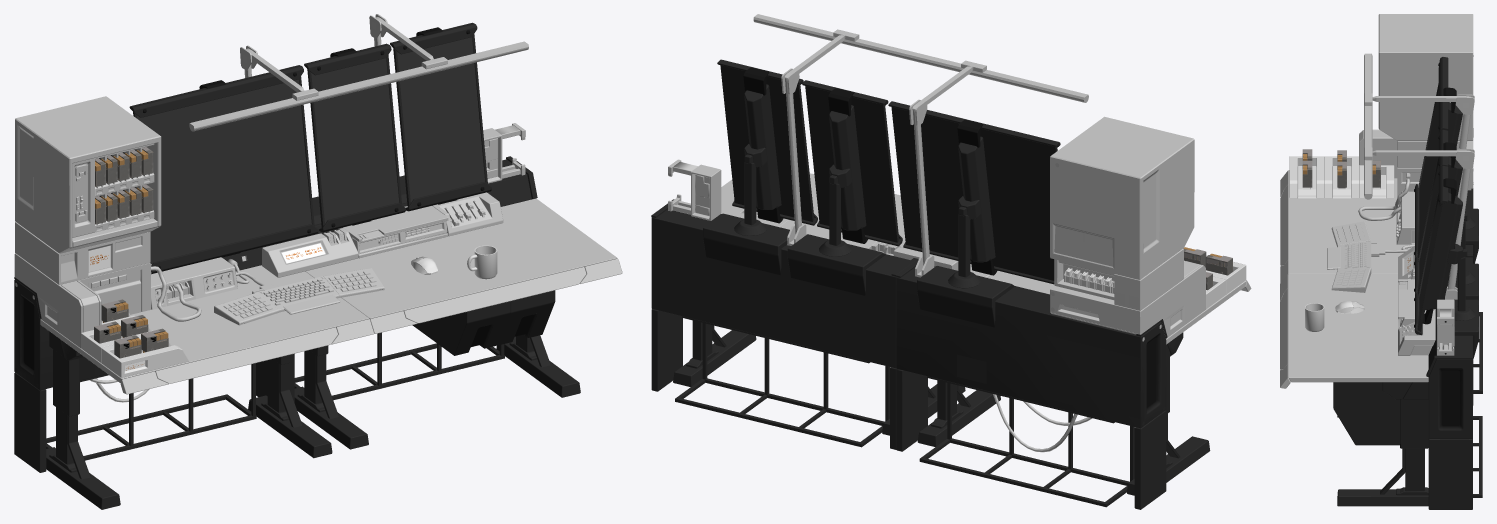
File: NarrativeComputer (1).fbx
3 views of the same model, side by side, from view 1: azimuth 30°, elevation 25°; view 2: azimuth 150°, elevation 25°; view 3: azimuth 270°, elevation 25° (orthographic). The views are drawn at different scales.
Visible parts, largest first — view 1: Plane.004, Plane.051, Plane.040, Plane.053, Plane.052, Plane.033, Plane.050, Plane.041, Cube.050, Cube.049, Cube.055, Cylinder.008 (+15 smaller); view 2: Plane.051, Plane.041, Plane.004, Plane.033, Plane.053, Plane.052, Cube.050, Cylinder.008, Cube.049, Cube.018, Plane.046, Cube.030 (+8 smaller); view 3: Plane.041, Plane.040, Plane.033, Plane.050, Plane.052, Plane.042, Plane.004, Plane.053, Cube.035, Cube.050, Cube.026, Cube.031 (+21 smaller).
Boxes of the visible parts, x1=… form: Plane.004: x1=129, y1=65, x2=318, y2=274; Plane.051: x1=14, y1=241, x2=332, y2=509; Plane.040: x1=305, y1=198, x2=622, y2=333; Plane.053: x1=304, y1=43, x2=405, y2=232; Plane.052: x1=390, y1=22, x2=491, y2=211; Plane.033: x1=15, y1=96, x2=161, y2=253; Plane.050: x1=40, y1=265, x2=373, y2=394; Plane.041: x1=286, y1=156, x2=580, y2=449; Cube.050: x1=14, y1=253, x2=150, y2=348; Cube.049: x1=15, y1=221, x2=150, y2=284; Cube.055: x1=95, y1=147, x2=153, y2=224; Cylinder.008: x1=189, y1=41, x2=528, y2=131; Plane.051: x1=896, y1=259, x2=1210, y2=509; Plane.041: x1=651, y1=199, x2=965, y2=449; Plane.004: x1=888, y1=101, x2=1060, y2=327; Plane.033: x1=1050, y1=116, x2=1194, y2=279; Plane.053: x1=787, y1=80, x2=902, y2=295; Plane.052: x1=703, y1=59, x2=817, y2=275; Cube.050: x1=1050, y1=260, x2=1205, y2=338; Cylinder.008: x1=753, y1=14, x2=1088, y2=102; Cube.049: x1=1054, y1=248, x2=1183, y2=310; Cube.018: x1=668, y1=159, x2=721, y2=220; Plane.046: x1=1054, y1=226, x2=1113, y2=266; Cube.030: x1=912, y1=104, x2=929, y2=265; Plane.041: x1=1337, y1=254, x2=1482, y2=509; Plane.040: x1=1280, y1=273, x2=1428, y2=388; Plane.033: x1=1378, y1=14, x2=1473, y2=140; Plane.050: x1=1280, y1=170, x2=1414, y2=282; Plane.052: x1=1414, y1=166, x2=1478, y2=358; Plane.042: x1=1333, y1=382, x2=1399, y2=445; Plane.004: x1=1414, y1=57, x2=1478, y2=263; Plane.053: x1=1414, y1=130, x2=1478, y2=299; Cube.035: x1=1327, y1=221, x2=1371, y2=292; Cube.050: x1=1359, y1=129, x2=1473, y2=197; Cube.026: x1=1336, y1=223, x2=1366, y2=285; Cube.031: x1=1289, y1=156, x2=1324, y2=198.
Size of the model in its own units: 400 by 271 by 165.
